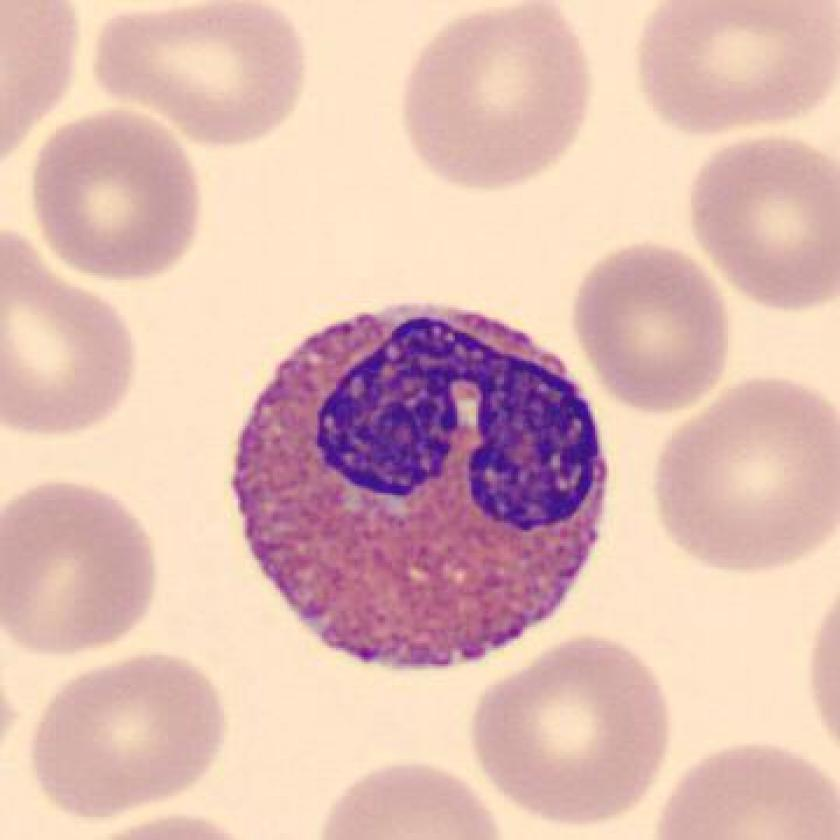eosinophil: (216, 288, 622, 684)
